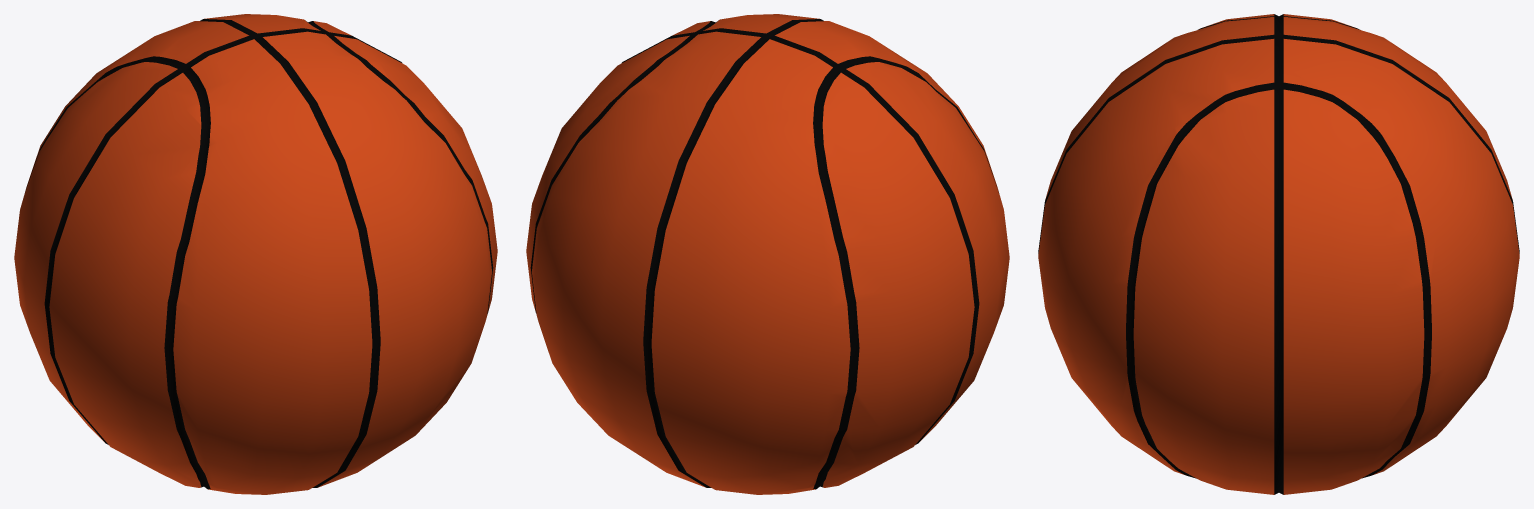
Rendered from basketBall.fbx.
3 views of the same model, side by side, from view 1: azimuth 30°, elevation 25°; view 2: azimuth 150°, elevation 25°; view 3: azimuth 270°, elevation 25° (orthographic).
Visible parts, largest first — view 1: basketBall; view 2: basketBall; view 3: basketBall.
Part boxes in pixels (left/top/right/bottom): basketBall: left=14, top=14, right=497, bottom=494; basketBall: left=526, top=14, right=1009, bottom=494; basketBall: left=1038, top=14, right=1519, bottom=494.
Size of the model in its own units: 0.9976 by 0.9953 by 0.9976.
Materials: 1 (1 with a texture image).
